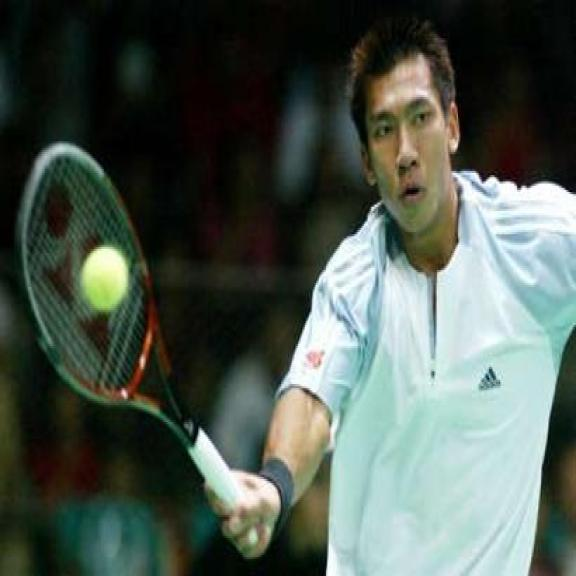face: (362, 65, 462, 235)
